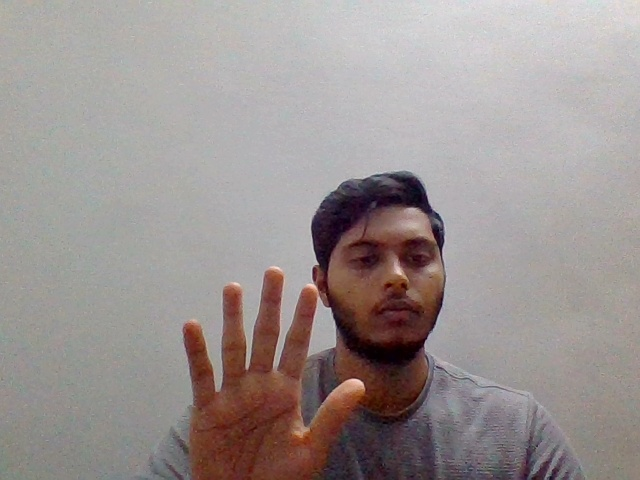Hello: (172, 260, 370, 480)
